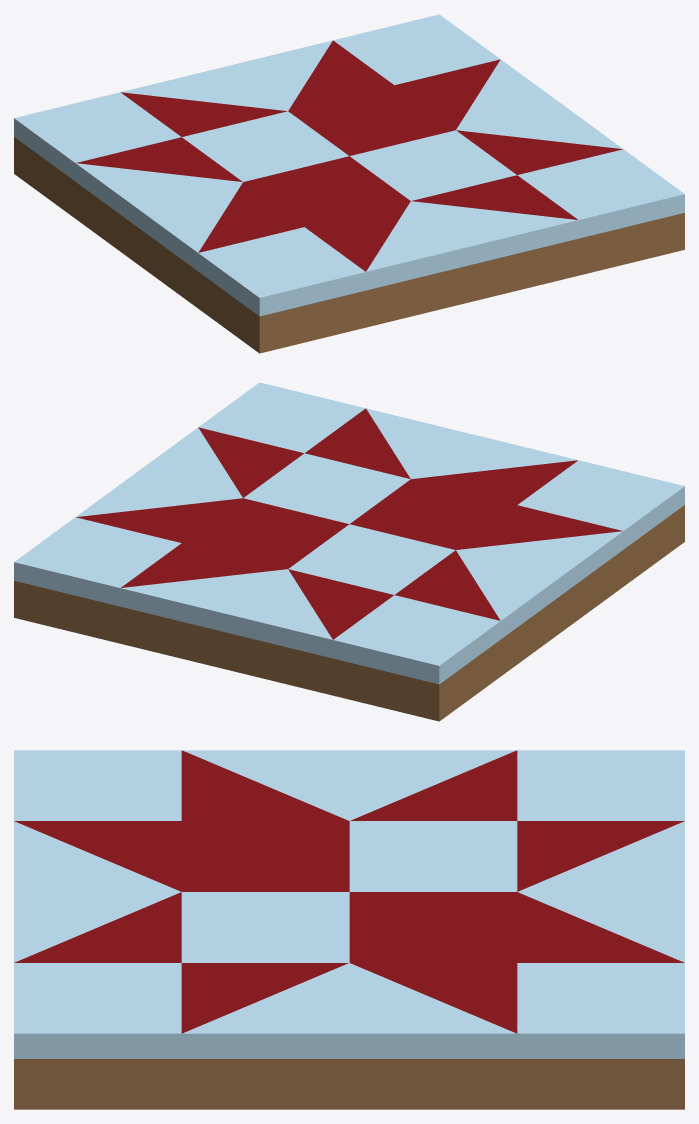
Rendered from Floor_Kitchen2.fbx.
3 renders of one model, top to bottom at view 1: azimuth 30°, elevation 25°; view 2: azimuth 150°, elevation 25°; view 3: azimuth 270°, elevation 25°, orthographic. The views are drawn at different scales.
Visible parts, largest first — view 1: Floor_Kitchen2; view 2: Floor_Kitchen2; view 3: Floor_Kitchen2.
Boxes of the visible parts, x1=… form: Floor_Kitchen2: x1=14, y1=14, x2=684, y2=353; Floor_Kitchen2: x1=14, y1=382, x2=684, y2=721; Floor_Kitchen2: x1=14, y1=750, x2=684, y2=1109.
Size of the model in its own units: 400 by 50 by 400.
